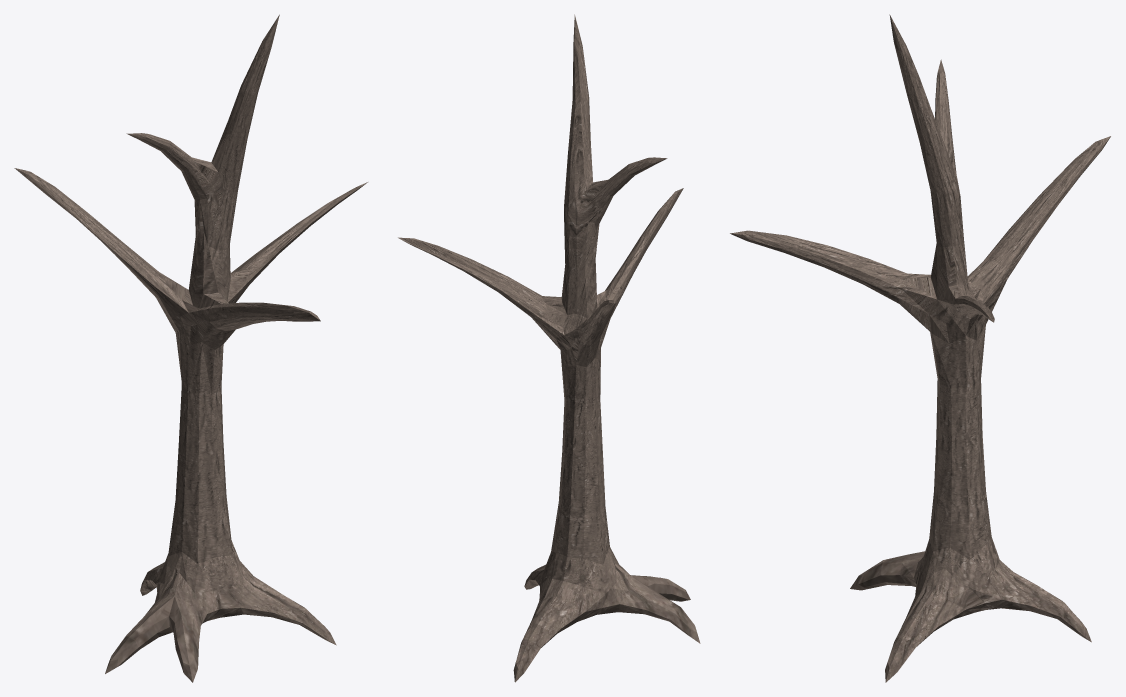
Rendered from TreeONLY.obj.
The picture shows the model from 3 angles, left to right: view 1: azimuth 30°, elevation 25°; view 2: azimuth 150°, elevation 25°; view 3: azimuth 270°, elevation 25°; orthographic projection. The views are drawn at different scales.
Visible parts, largest first — view 1: Tree; view 2: Tree; view 3: Tree.
Boxes of the visible parts, x1=… form: Tree: x1=14, y1=14, x2=367, y2=682; Tree: x1=398, y1=14, x2=700, y2=682; Tree: x1=730, y1=14, x2=1110, y2=682.
Size of the model in its own units: 2.59 by 5.38 by 2.88.
2 materials, 2 textured.
